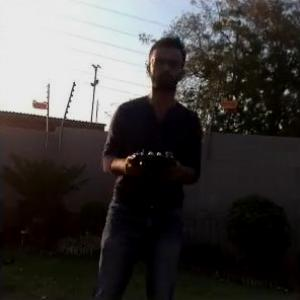follow: (84, 31, 207, 299)
